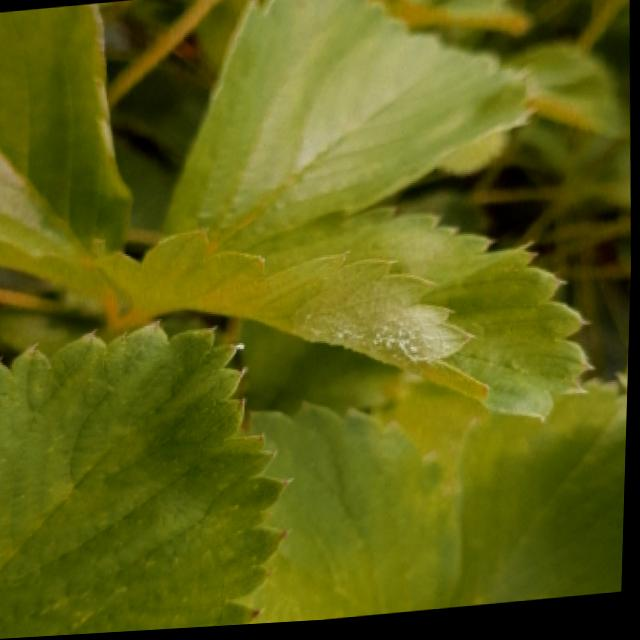Powdery Mildew Leaf: (94, 208, 597, 433)
